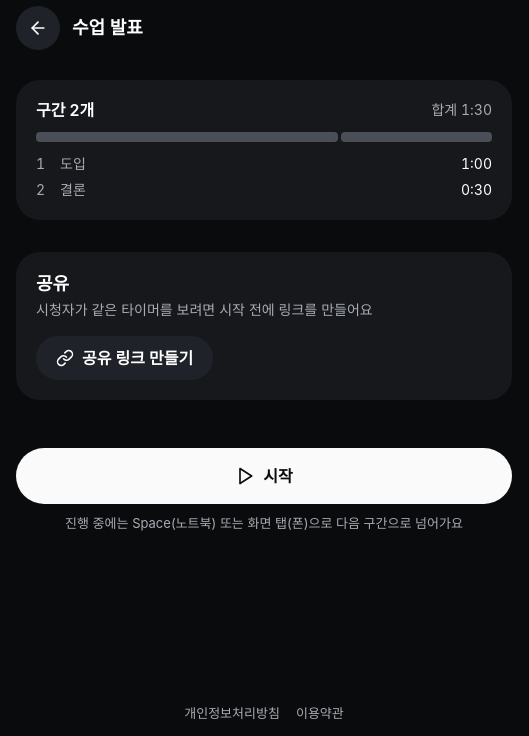
Test: RunScreen sharing › shows a creation failure without changing local state
What coordinates should you click on to do the following:
click the button "공유 링크 만들기"
I would click on:
 (125, 358)
Its box is [36,336,213,380].
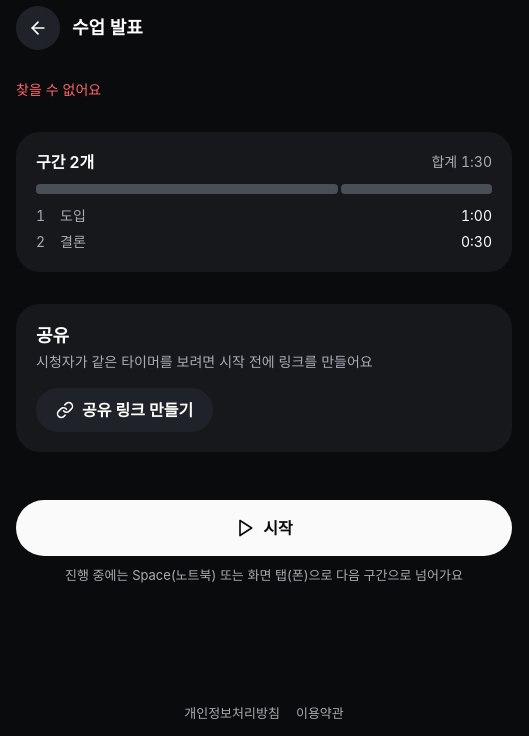
expect the message reads "찾을 수 없어요": met, box [16,81,101,98]
